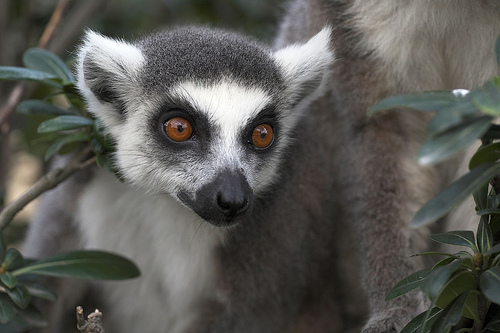cat: (14, 2, 497, 329)
